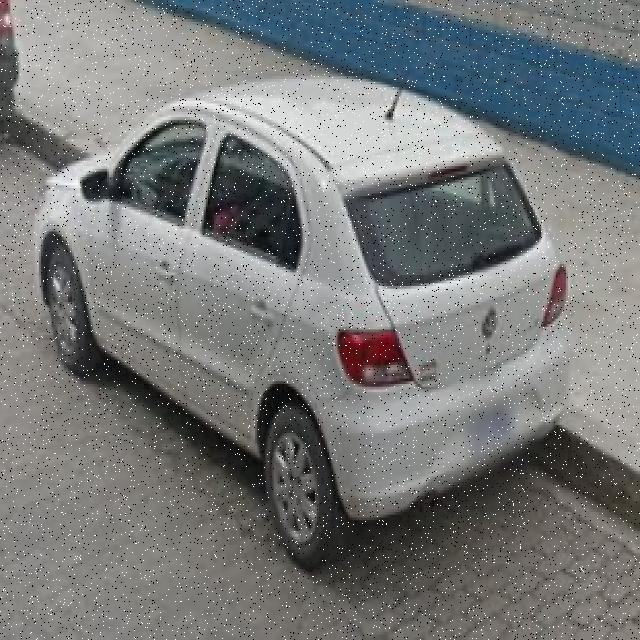cars: (37, 68, 566, 558)
